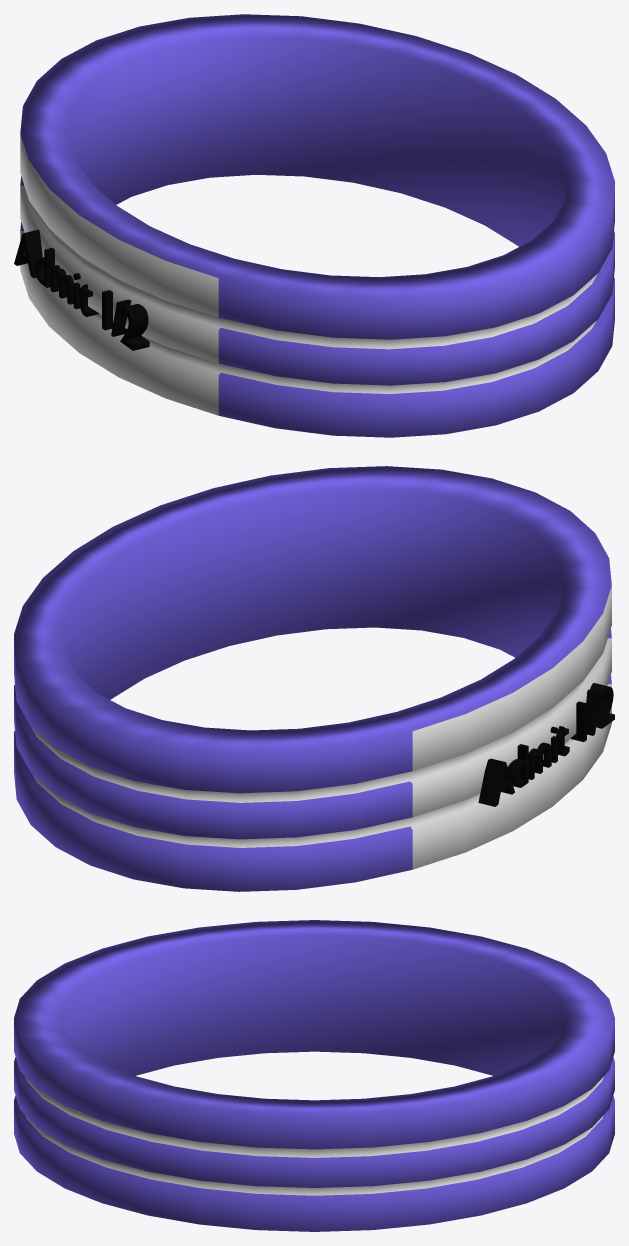
File: wristband 1.fbx
3 views of the same model, one above another, from view 1: azimuth 30°, elevation 25°; view 2: azimuth 150°, elevation 25°; view 3: azimuth 270°, elevation 25° (orthographic). The views are drawn at different scales.
Visible parts, largest first — view 1: Circle, Text; view 2: Circle, Text; view 3: Circle.
Part boxes in pixels (left/top/right/bottom): Circle: left=20, top=14, right=614, bottom=437; Text: left=14, top=229, right=149, bottom=350; Circle: left=14, top=466, right=611, bottom=891; Text: left=478, top=683, right=614, bottom=806; Circle: left=14, top=920, right=614, bottom=1231.
Size of the model in its own units: 156 by 42.59 by 200.
